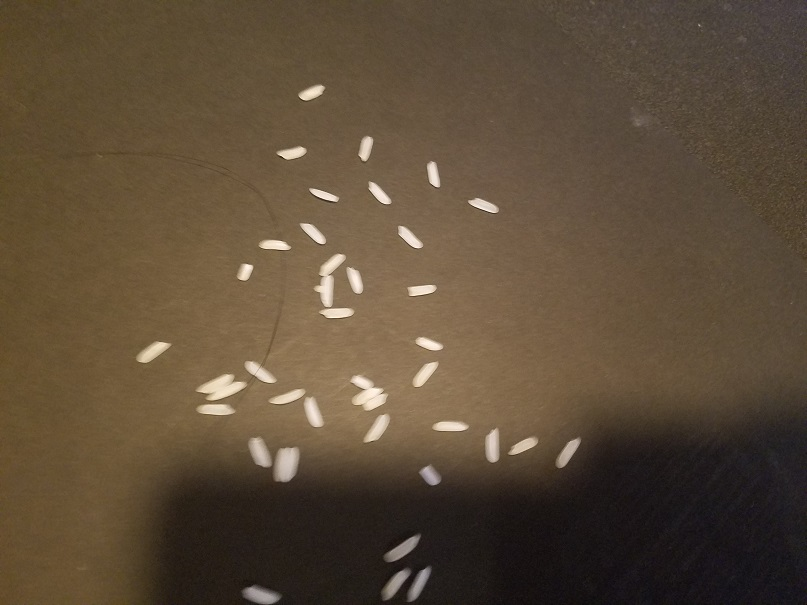egg: (384, 531, 421, 562), (405, 565, 434, 604), (553, 436, 583, 471), (244, 434, 274, 468), (380, 568, 409, 602), (134, 338, 171, 364), (196, 373, 237, 396), (363, 412, 391, 445), (242, 360, 278, 385), (299, 396, 326, 429), (242, 582, 280, 605), (410, 360, 439, 390), (464, 194, 503, 216), (266, 385, 309, 404), (319, 251, 349, 278), (299, 220, 328, 247), (366, 180, 395, 207), (205, 382, 242, 403), (395, 224, 424, 249), (296, 81, 327, 104), (483, 426, 501, 465), (507, 436, 540, 457), (275, 142, 309, 161), (284, 446, 302, 481), (345, 266, 366, 296), (308, 185, 341, 204), (424, 158, 442, 190), (413, 335, 444, 353), (350, 388, 382, 405), (318, 305, 358, 318), (272, 447, 287, 481), (197, 402, 236, 415), (364, 392, 390, 411), (258, 237, 293, 251), (350, 372, 377, 390), (420, 464, 442, 486), (359, 133, 375, 163), (432, 420, 468, 433), (406, 283, 439, 296), (235, 261, 253, 283), (322, 274, 333, 308)
